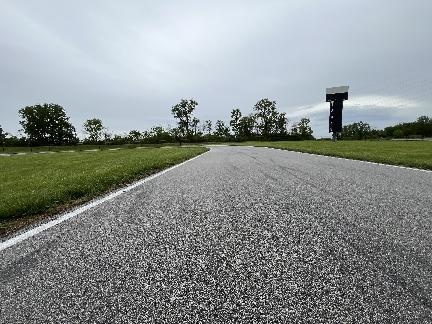Grass: (0, 148, 209, 221), (231, 141, 431, 169)
Lane: (0, 147, 431, 323)
